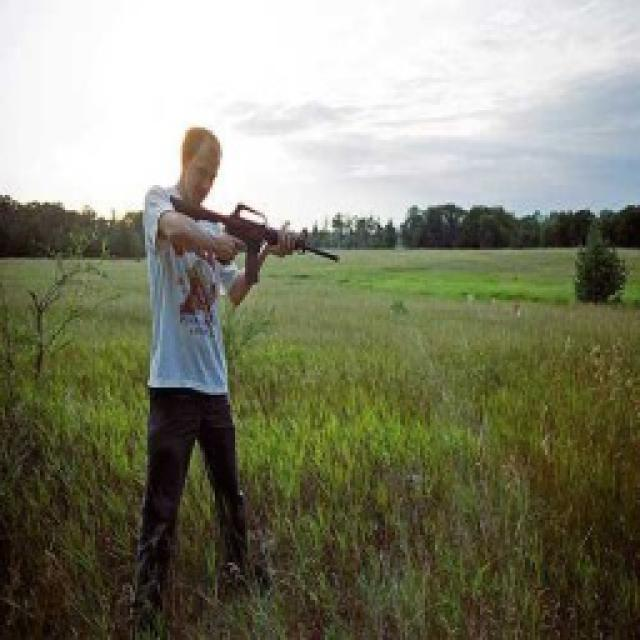long weapon: (131, 201, 363, 283)
